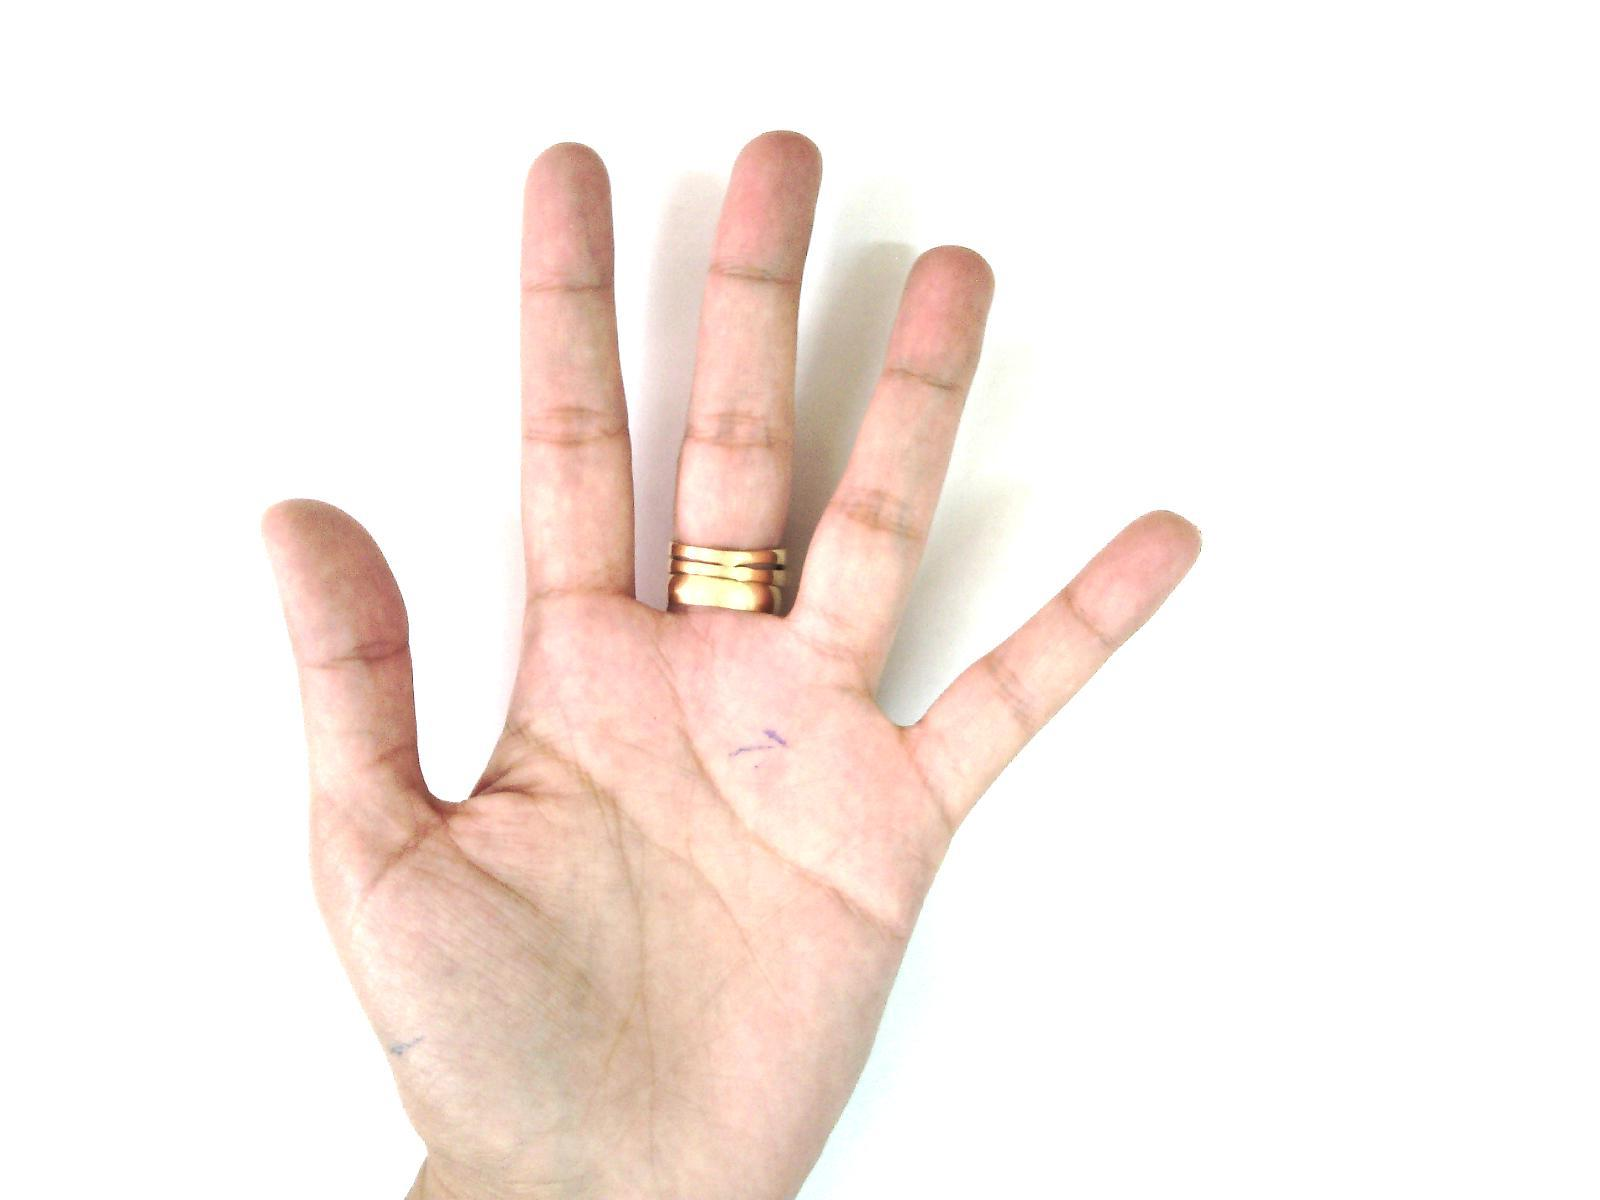hand: (257, 125, 1204, 1186)
